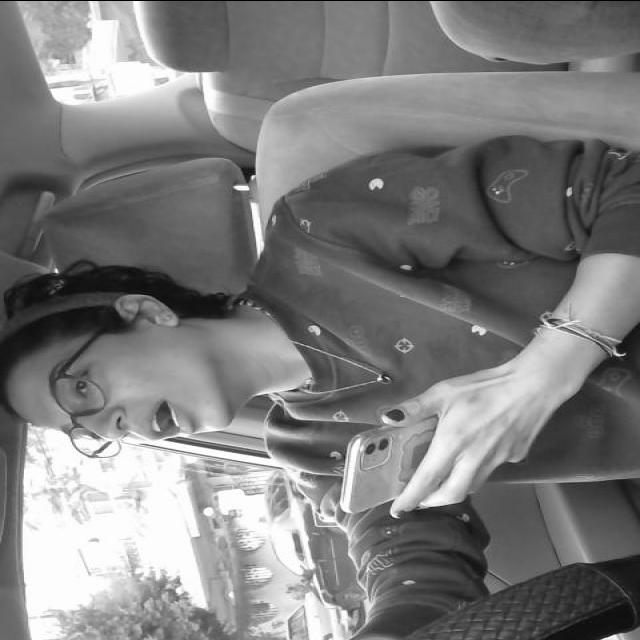mobile use: (334, 421, 514, 514)
